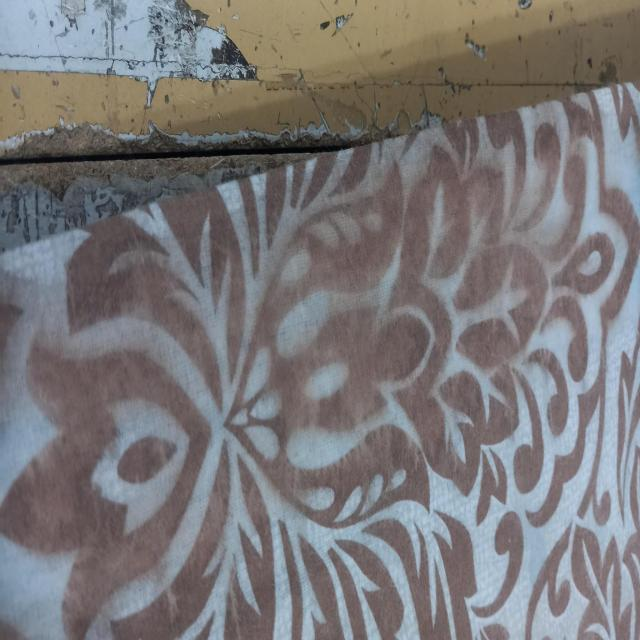baekra: (11, 91, 634, 624)
